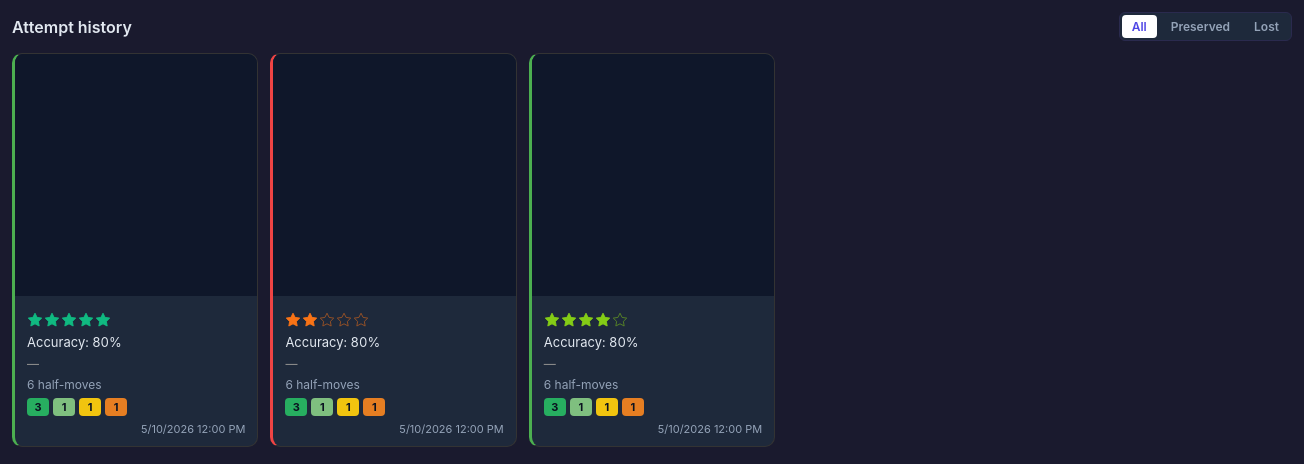
Scenario: <PrecisionAttemptsList> › KS-3173: effectiveSolved = solved || score===5 › фильтр Preserved включает 5★ + solved=false (legacy saveEquality)
Expected: the list item with test id "precision-attempts-row-legacy-5star" is shown, [12,53,258,447]
What coordinates should you click on to do the following:
click the tab with test id "precision-attempts-filter-preserved"
I would click on:
 (1200, 26)
Its box is [1161,15,1240,38].
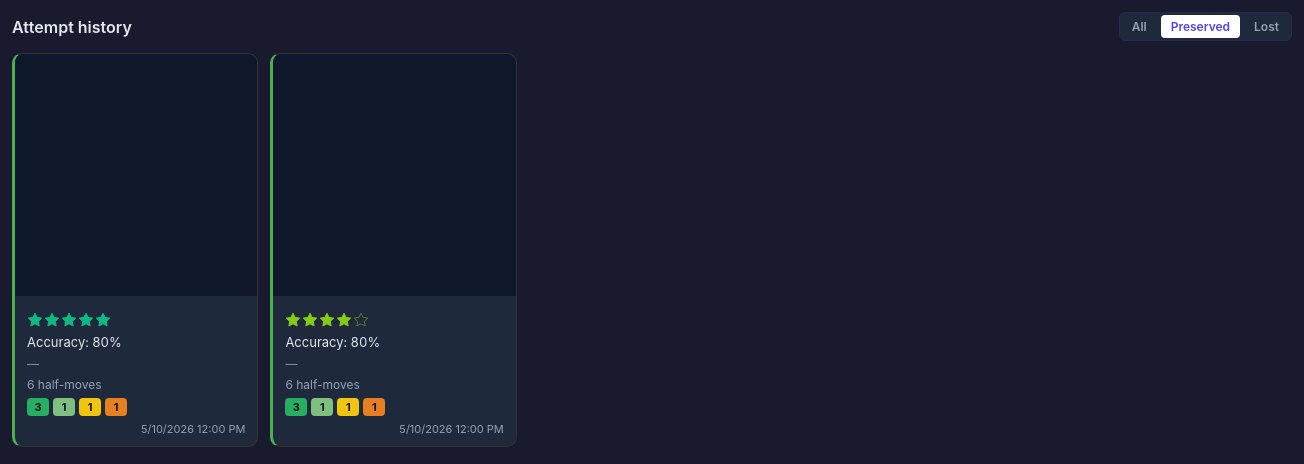
Expected: the list item with test id "precision-attempts-row-legacy-5star" is shown, [12,53,258,447]
Expected: the list item with test id "precision-attempts-row-honest-fail" is gone
